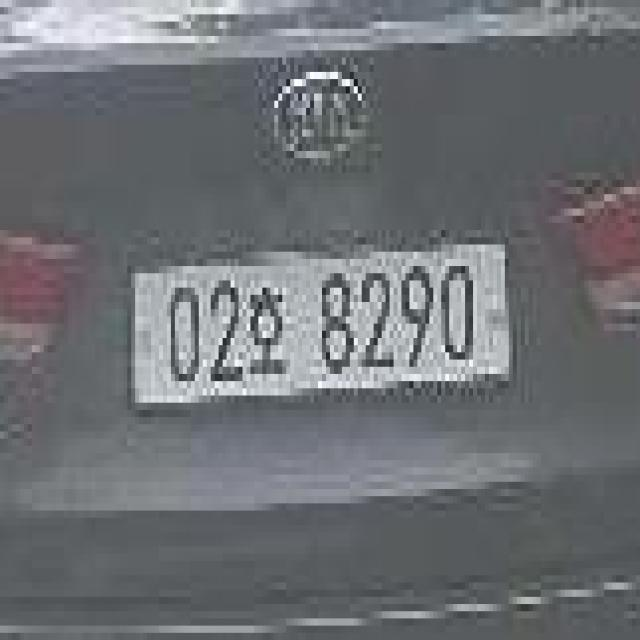illegal_plate: (128, 236, 518, 414)
